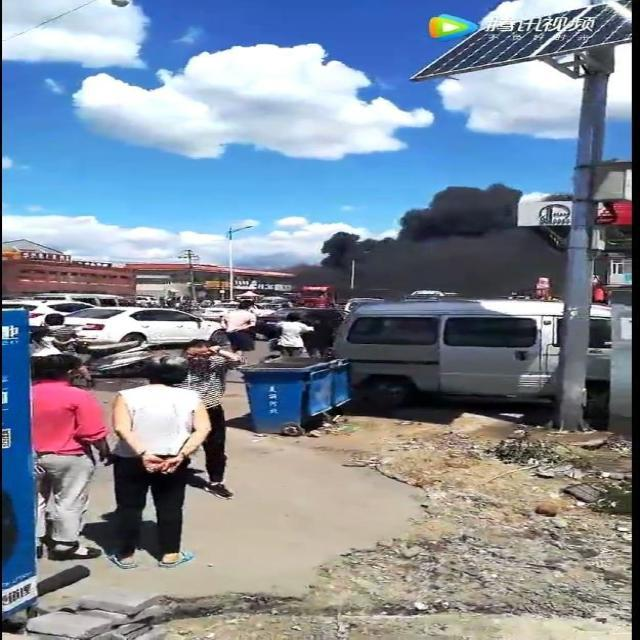Smoke: (284, 182, 570, 300)
